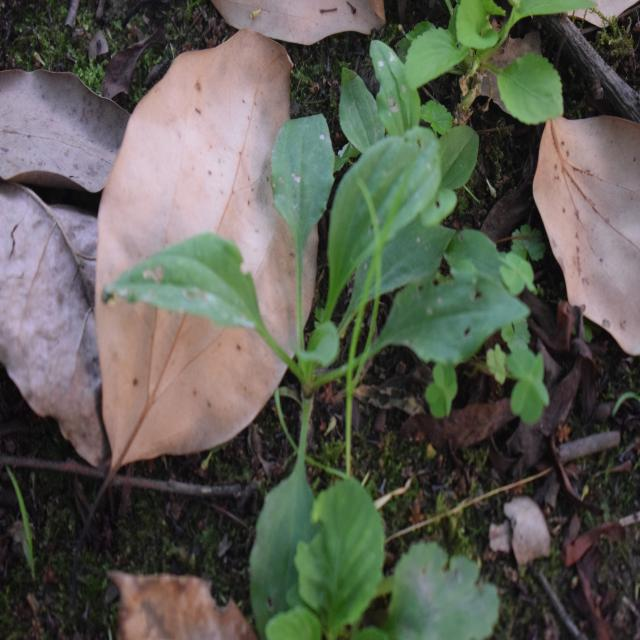plantain: (147, 116, 493, 469)
